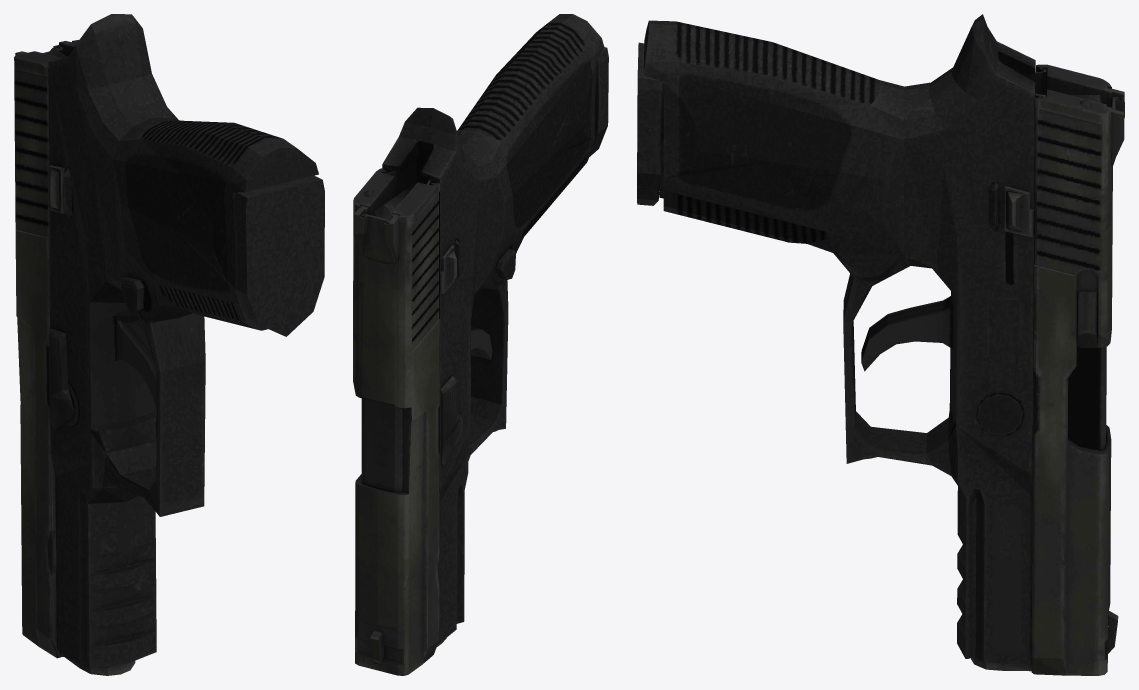
File: w_pist_p250.obj
3 renders of one model, left to right at view 1: azimuth 30°, elevation 25°; view 2: azimuth 150°, elevation 25°; view 3: azimuth 270°, elevation 25°, orthographic. The views are drawn at different scales.
Size of the model in its own units: 0.012 by 0.0813 by 0.0561.
1 material, 1 textured.
